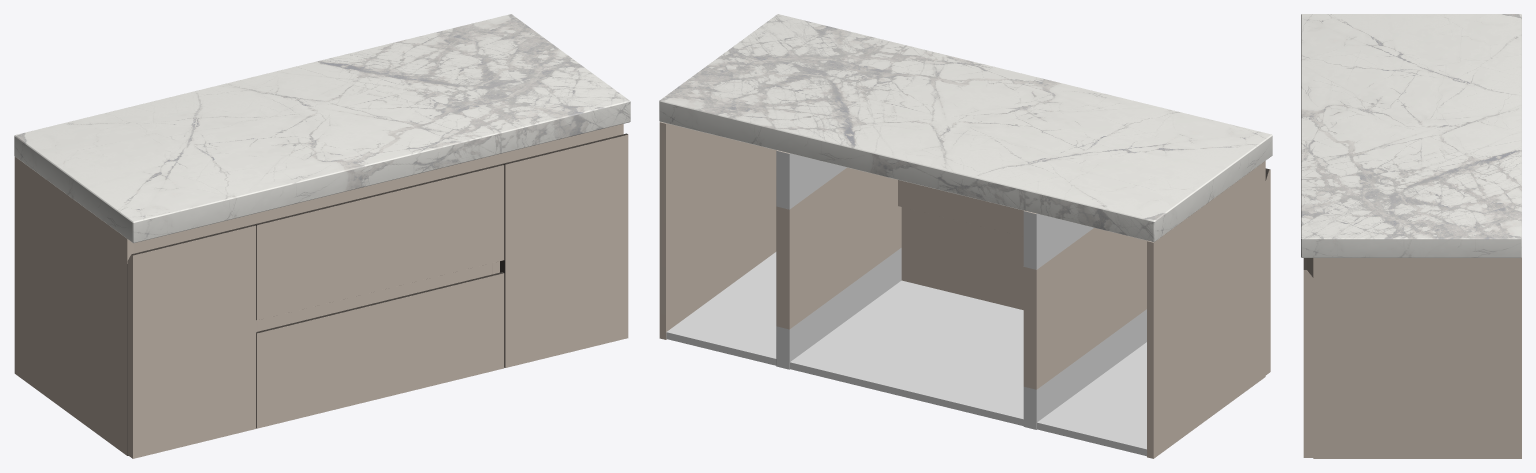
3 renders of one model, left to right at view 1: azimuth 30°, elevation 25°; view 2: azimuth 150°, elevation 25°; view 3: azimuth 270°, elevation 25°, orthographic. The views are drawn at different scales.
Parts seen in each view (by area): view 1: VX08; view 2: VX08; view 3: VX08.
Boxes of the visible parts, left/top/right/bottom form: VX08: left=14, top=14, right=630, bottom=458; VX08: left=659, top=14, right=1272, bottom=458; VX08: left=1301, top=14, right=1521, bottom=458.
Size of the model in its own units: 1.2 by 0.552 by 0.5001.
Materials: 4 (1 with a texture image).
